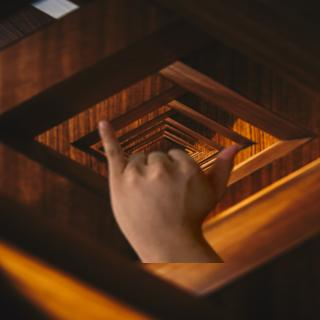HAVE: (85, 112, 247, 247)
